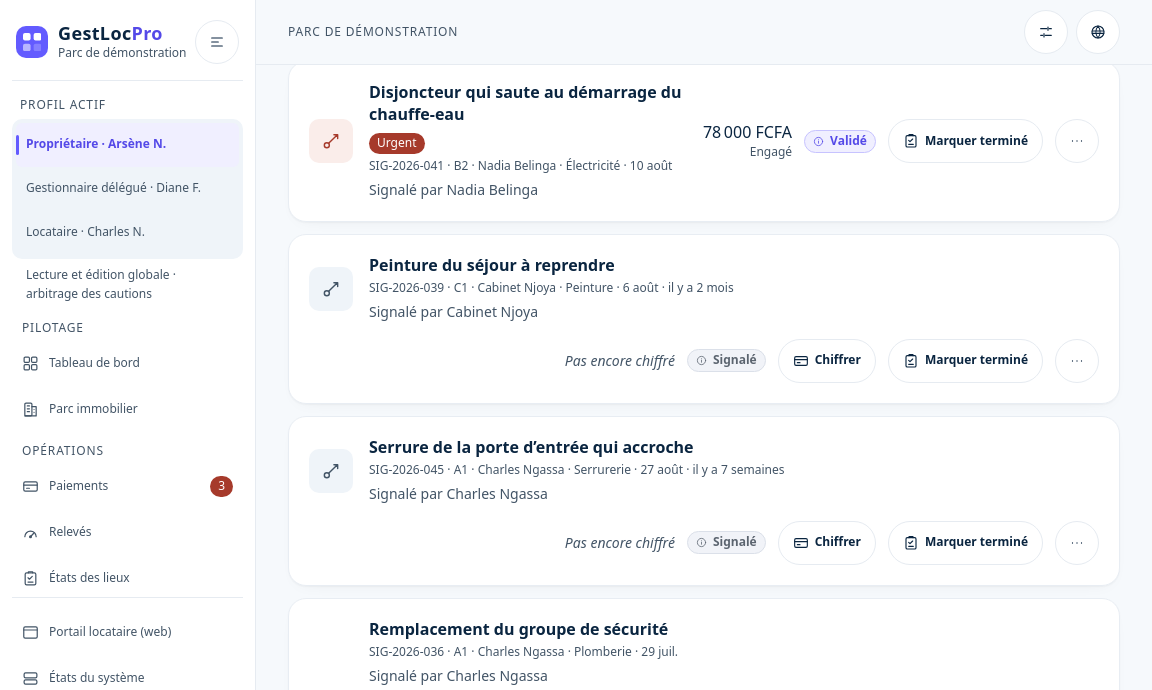
Scenario: gestes atteignables sans le toast › refuse un devis sans montant, et n’appelle rien
This screenshot has width=1152, height=690.
(page scrolled)
Click the button "Chiffrer" below "Signalé par Cabinet Njoya": x=827, y=361 left=778, top=339, right=876, bottom=383
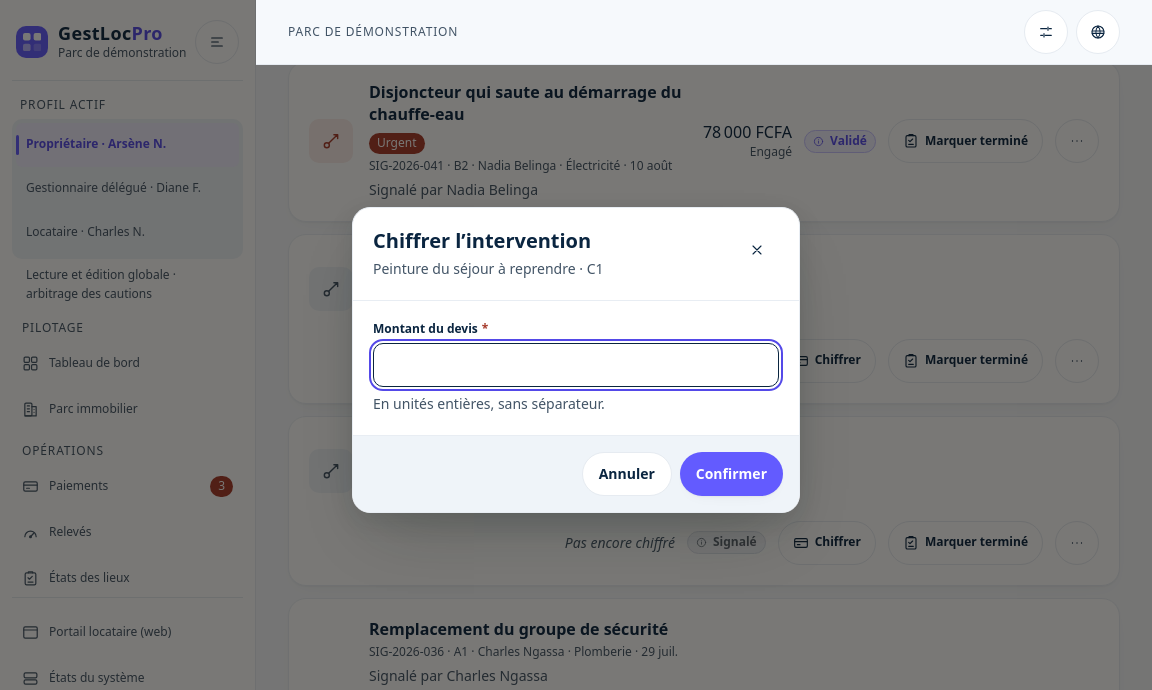
Click the button "Confirmer": x=731, y=474 left=680, top=452, right=783, bottom=496
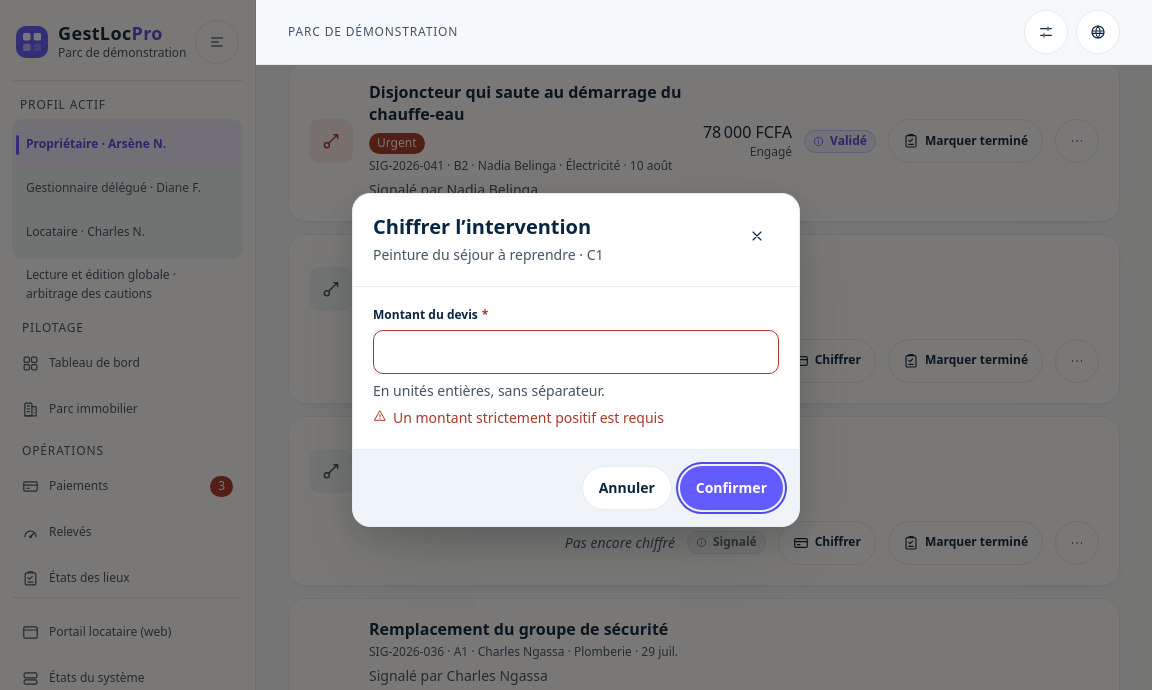
Check: the message "Un montant strictement positif est requis" is shown, box left=373, top=408, right=664, bottom=427
